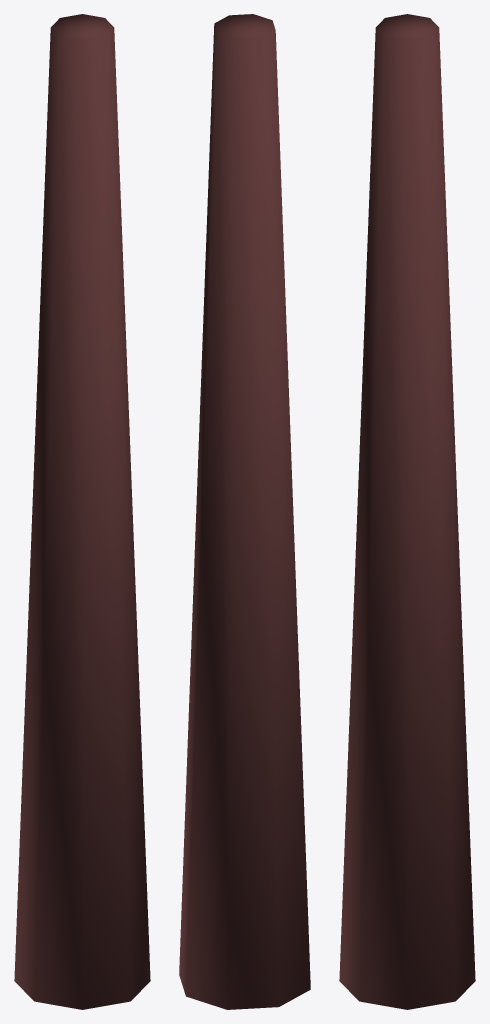
The model's file is Wand.fbx.
3 views of the same model, side by side, from view 1: azimuth 90°, elevation 25°; view 2: azimuth 210°, elevation 25°; view 3: azimuth 270°, elevation 25° (orthographic).
Visible parts, largest first — view 1: Wand; view 2: Wand; view 3: Wand.
Part boxes in pixels (x1,y1,x2,y2): Wand: (14, 14, 150, 1009); Wand: (179, 14, 310, 1009); Wand: (339, 14, 475, 1009).
Bounding box in the file's own units: 28.59 × 227 × 28.59.
